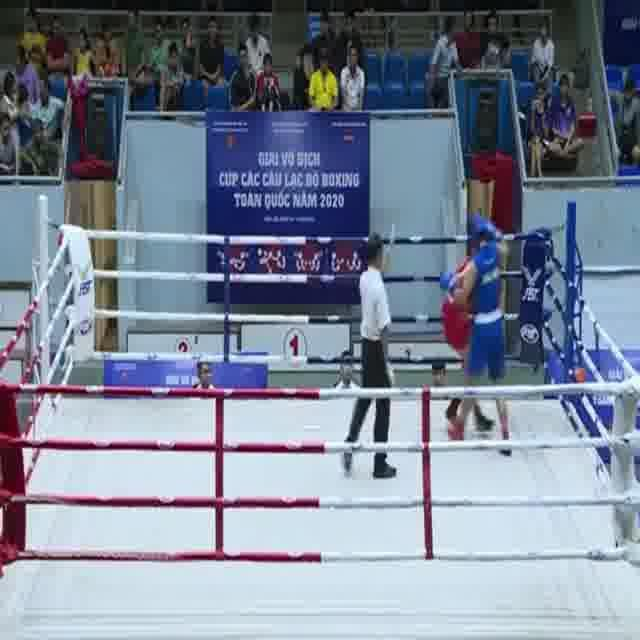blue-player: (441, 214, 513, 458)
red-player: (440, 236, 497, 434)
referee: (339, 220, 402, 480)
